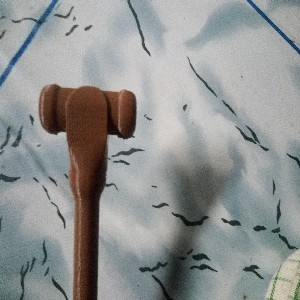palu: (39, 84, 138, 300)
